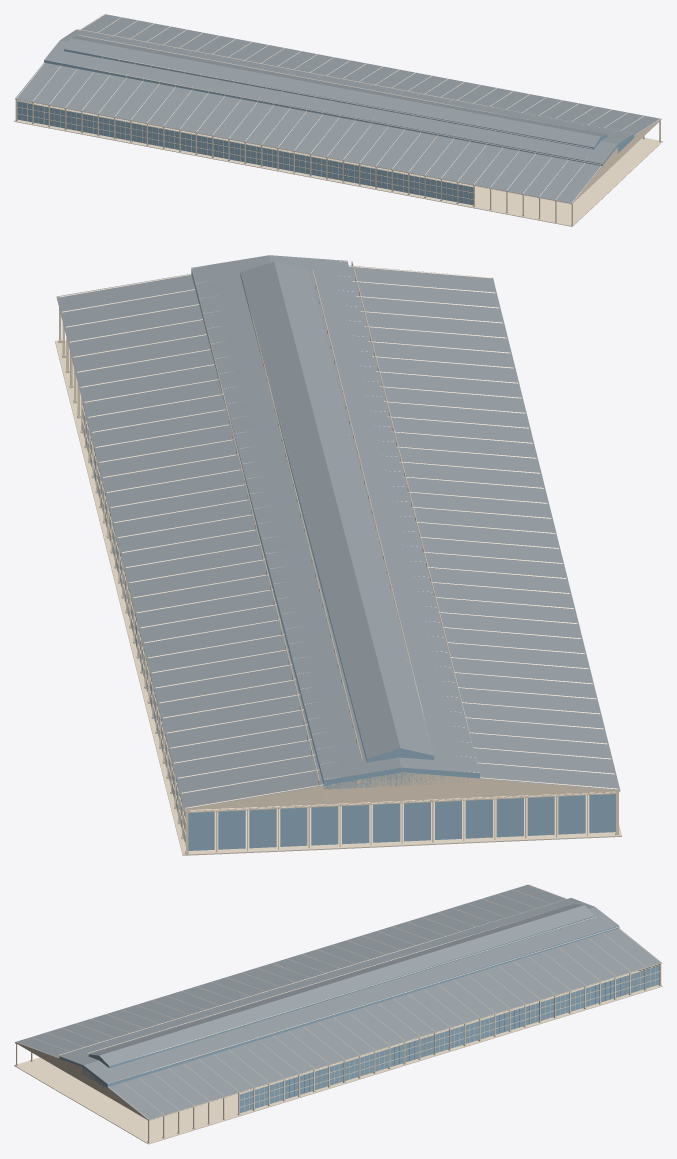
The model's file is detail.glb.
The picture shows the model from 3 angles, top to bottom: view 1: azimuth 30°, elevation 25°; view 2: azimuth 150°, elevation 25°; view 3: azimuth 270°, elevation 25°; orthographic projection. The views are drawn at different scales.
Visible parts, largest first — view 1: roof, glass, trim, stone; view 2: roof, trim, glass, stone; view 3: roof, glass, trim, stone.
Part boxes in pixels (bbox=[...]): roof: bbox=[15, 14, 661, 203]; glass: bbox=[17, 49, 634, 205]; trim: bbox=[15, 14, 661, 224]; stone: bbox=[14, 103, 662, 226]; roof: bbox=[56, 255, 619, 808]; trim: bbox=[56, 260, 620, 852]; glass: bbox=[82, 269, 615, 850]; stone: bbox=[55, 339, 621, 855]; roof: bbox=[15, 884, 661, 1119]; glass: bbox=[59, 916, 659, 1113]; trim: bbox=[15, 885, 661, 1141]; stone: bbox=[14, 971, 662, 1144].
Bounding box in the file's own units: 213 × 19 × 246.
